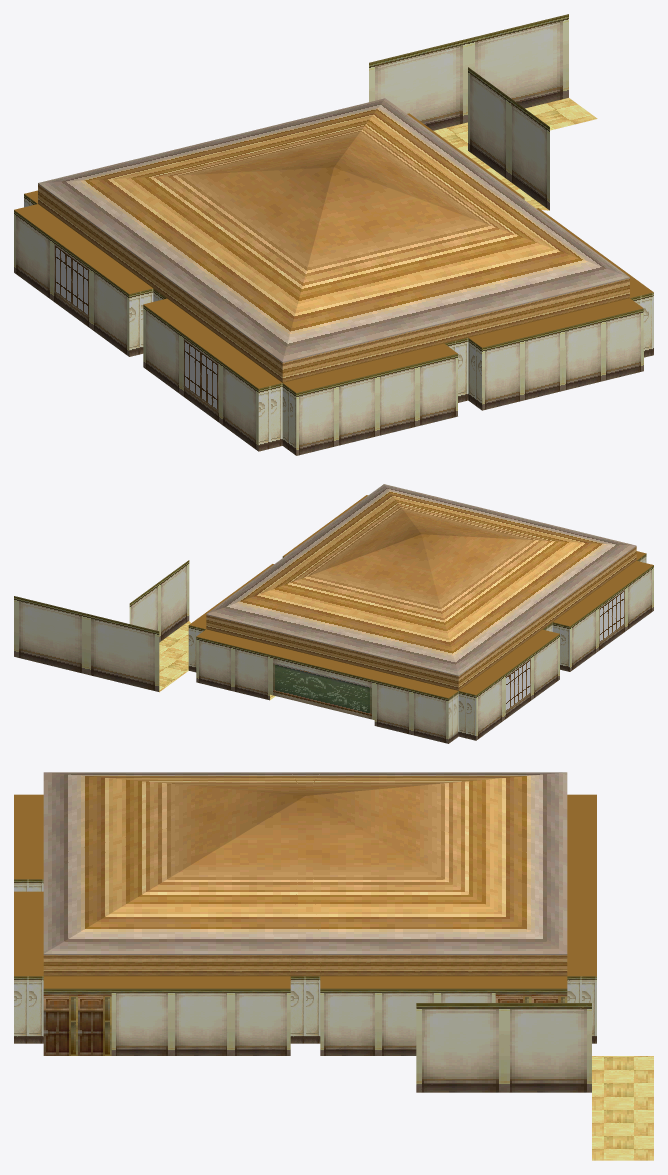
Rendered from Classroom.dae.
The picture shows the model from 3 angles, top to bottom: view 1: azimuth 30°, elevation 25°; view 2: azimuth 150°, elevation 25°; view 3: azimuth 270°, elevation 25°; orthographic projection. The views are drawn at different scales.
Visible parts, largest first — view 1: Nemu_1D99E392_0_14, Nemu_19A9B719_0_6, Nemu_9C60A57_0_11, Nemu_19A9B719_0_2, Nemu_75ADD328_0_12, Nemu_63101C9_0_7, Nemu_7C324ADE_7C324ADE_1; view 2: Nemu_1D99E392_0_14, Nemu_19A9B719_0_6, Nemu_9C60A57_0_11, Nemu_19A9B719_0_2, Nemu_75ADD328_0_12, Nemu_4298274C_0_3, Nemu_617B7A94_0_4, Nemu_63101C9_0_7, Nemu_7C324ADE_7C324ADE_1; view 3: Nemu_1D99E392_0_14, Nemu_9C60A57_0_11, Nemu_19A9B719_0_6, Nemu_19A9B719_0_2, Nemu_7C324ADE_7C324ADE_1, Nemu_785A6CCF_0_5, Nemu_75ADD328_0_12.
Part boxes in pixels (x1,y1,x2,y2): Nemu_1D99E392_0_14: (38, 98, 629, 361); Nemu_19A9B719_0_6: (14, 210, 643, 455); Nemu_9C60A57_0_11: (14, 113, 653, 392); Nemu_19A9B719_0_2: (369, 14, 568, 210); Nemu_75ADD328_0_12: (24, 194, 653, 455); Nemu_63101C9_0_7: (55, 245, 218, 411); Nemu_7C324ADE_7C324ADE_1: (433, 98, 597, 210); Nemu_1D99E392_0_14: (206, 484, 635, 675); Nemu_19A9B719_0_6: (196, 565, 653, 743); Nemu_9C60A57_0_11: (189, 495, 653, 698); Nemu_19A9B719_0_2: (14, 560, 189, 691); Nemu_75ADD328_0_12: (188, 553, 646, 743); Nemu_4298274C_0_3: (322, 667, 374, 719); Nemu_617B7A94_0_4: (270, 655, 322, 707); Nemu_63101C9_0_7: (506, 590, 624, 710); Nemu_7C324ADE_7C324ADE_1: (159, 621, 275, 699); Nemu_1D99E392_0_14: (43, 772, 567, 953); Nemu_9C60A57_0_11: (14, 794, 596, 988); Nemu_19A9B719_0_6: (111, 988, 495, 1055); Nemu_19A9B719_0_2: (416, 1003, 591, 1092); Nemu_7C324ADE_7C324ADE_1: (592, 1056, 653, 1160); Nemu_785A6CCF_0_5: (43, 988, 567, 1055); Nemu_75ADD328_0_12: (14, 879, 596, 1043).
Bounding box in the file's own units: 2976 × 702 × 2588.
Materials: 19 (19 with a texture image).
